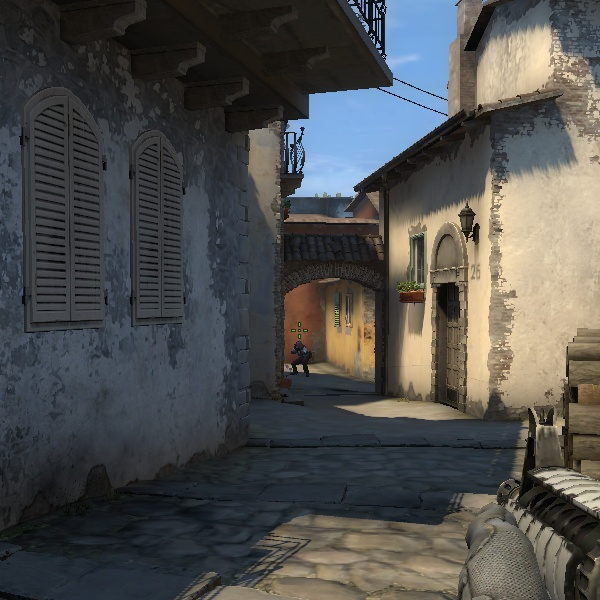t_body: (288, 335, 314, 374)
